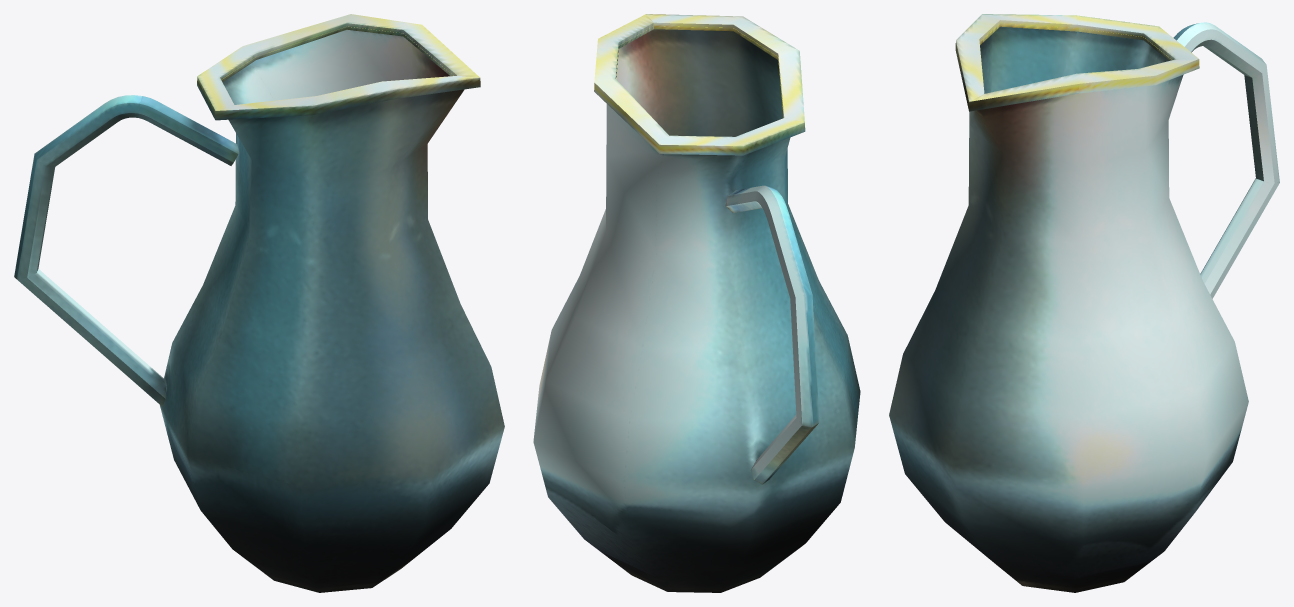
The model's file is tetera.obj.
The picture shows the model from 3 angles, left to right: view 1: azimuth 30°, elevation 25°; view 2: azimuth 150°, elevation 25°; view 3: azimuth 270°, elevation 25°; orthographic projection. The views are drawn at different scales.
Visible parts, largest first — view 1: pasted__pasted__polySurface10 mesa1:tablegroup pasted__tetera gr, mesa1:tablegroup pasted__tetera group1 pasted__pasted__polySurfa; view 2: pasted__pasted__polySurface10 mesa1:tablegroup pasted__tetera gr, mesa1:tablegroup pasted__tetera group1 pasted__pasted__polySurfa; view 3: pasted__pasted__polySurface10 mesa1:tablegroup pasted__tetera gr, mesa1:tablegroup pasted__tetera group1 pasted__pasted__polySurfa.
Part boxes in pixels (x1=…): pasted__pasted__polySurface10 mesa1:tablegroup pasted__tetera gr: x1=160, y1=14, x2=504, y2=592; mesa1:tablegroup pasted__tetera group1 pasted__pasted__polySurfa: x1=14, y1=95, x2=238, y2=406; pasted__pasted__polySurface10 mesa1:tablegroup pasted__tetera gr: x1=533, y1=14, x2=860, y2=592; mesa1:tablegroup pasted__tetera group1 pasted__pasted__polySurfa: x1=725, y1=185, x2=819, y2=484; pasted__pasted__polySurface10 mesa1:tablegroup pasted__tetera gr: x1=889, y1=14, x2=1248, y2=592; mesa1:tablegroup pasted__tetera group1 pasted__pasted__polySurfa: x1=1173, y1=22, x2=1279, y2=298.
Size of the model in its own units: 0.248 by 0.3275 by 0.2203.
Materials: 1 (1 with a texture image).
